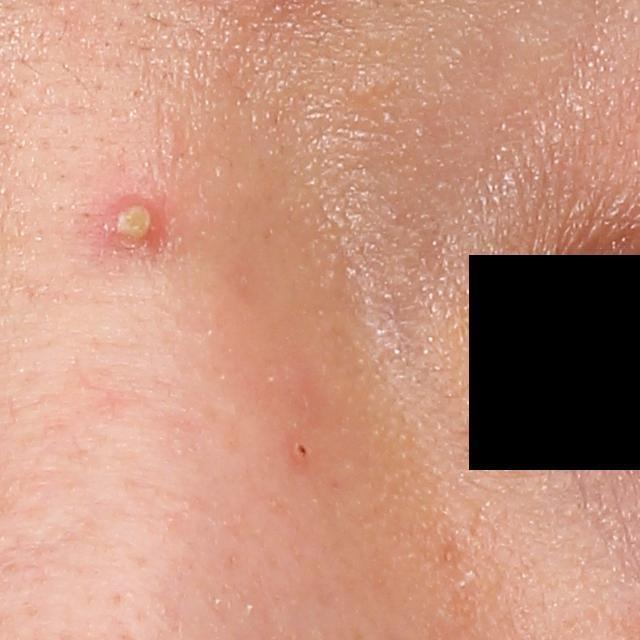pustule: (98, 198, 166, 263)
